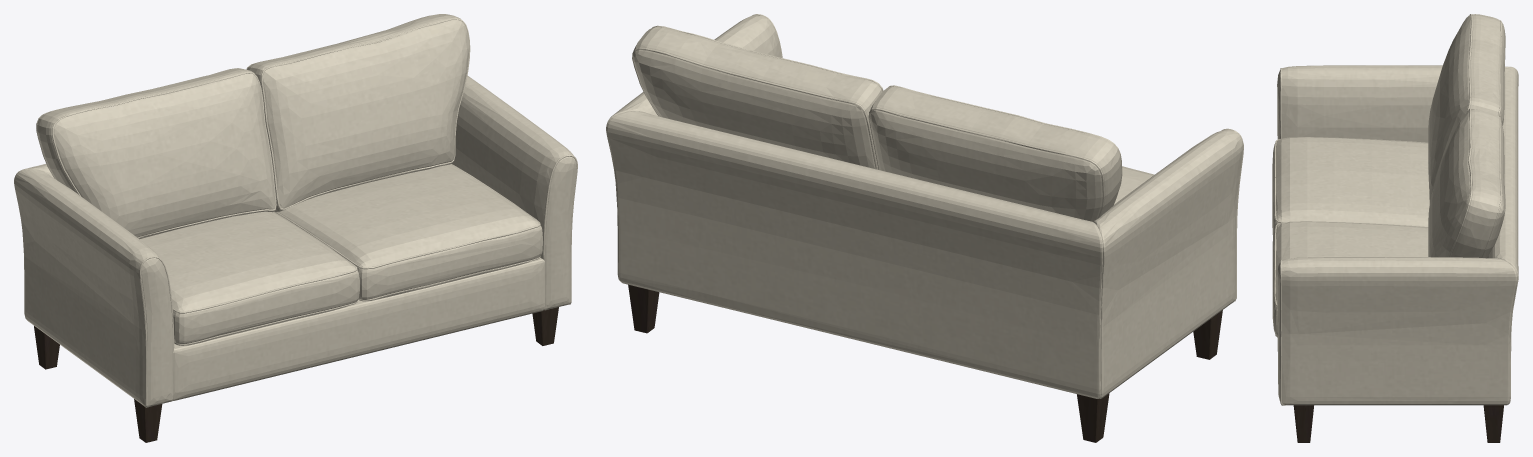
3 views of the same model, side by side, from view 1: azimuth 30°, elevation 25°; view 2: azimuth 150°, elevation 25°; view 3: azimuth 270°, elevation 25° (orthographic). The views are drawn at different scales.
Parts seen in each view (by area): view 1: world; view 2: world; view 3: world.
Part boxes in pixels (<box>): world: <box>14,14,577,442</box>; world: <box>606,14,1243,442</box>; world: <box>1272,14,1518,442</box>.
Bounding box in the file's own units: 1.67 × 0.94 × 0.85.
1 material, 1 textured.
